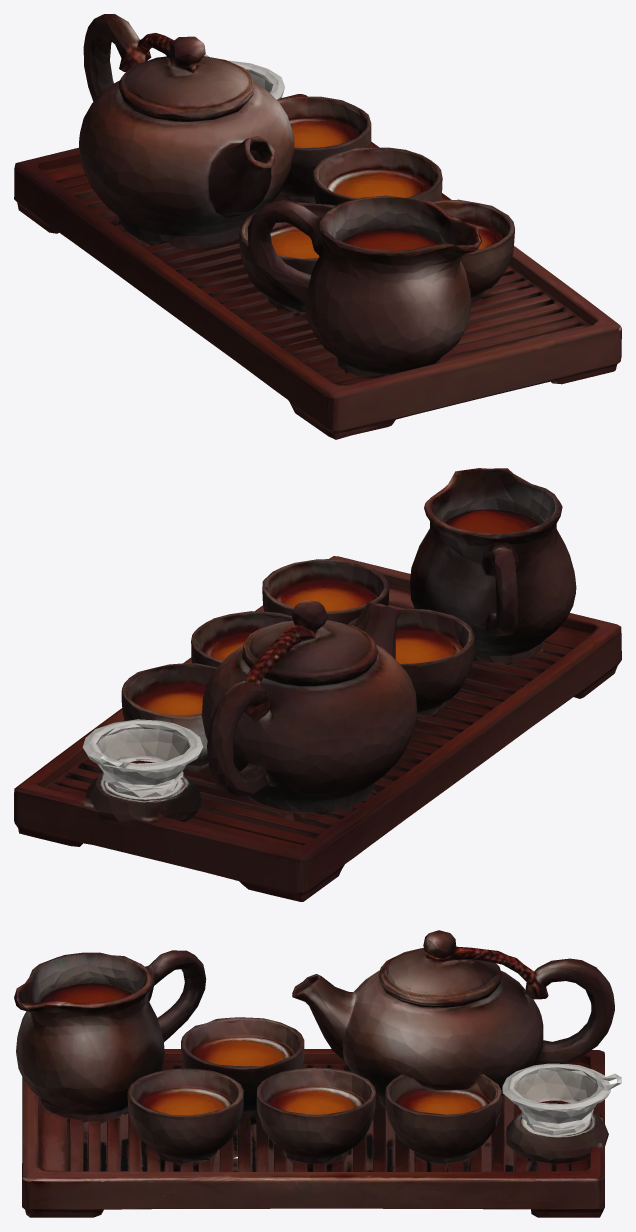
Rendered from tea.glb.
The picture shows the model from 3 angles, top to bottom: view 1: azimuth 30°, elevation 25°; view 2: azimuth 150°, elevation 25°; view 3: azimuth 270°, elevation 25°; orthographic projection. The views are drawn at different scales.
Parts seen in each view (by area): view 1: tripo_node_1fa7b168-2f20-42c9-bdae-72e4fbae7b0c; view 2: tripo_node_1fa7b168-2f20-42c9-bdae-72e4fbae7b0c; view 3: tripo_node_1fa7b168-2f20-42c9-bdae-72e4fbae7b0c.
Boxes of the visible parts, box(x1,y1,x2,y2) form: tripo_node_1fa7b168-2f20-42c9-bdae-72e4fbae7b0c: box(14, 14, 621, 439); tripo_node_1fa7b168-2f20-42c9-bdae-72e4fbae7b0c: box(14, 468, 621, 901); tripo_node_1fa7b168-2f20-42c9-bdae-72e4fbae7b0c: box(14, 930, 621, 1217).
Size of the model in its own units: 0.5221 by 0.3536 by 1.
1 material, 1 textured.
